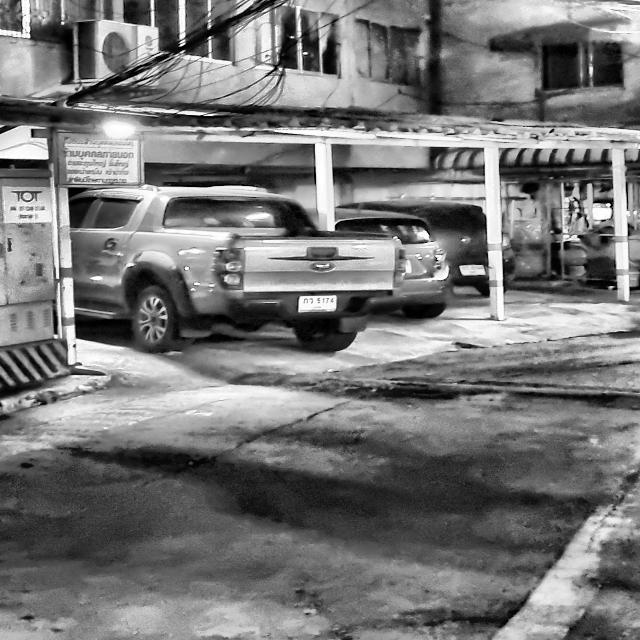license-plate: (295, 294, 344, 315), (456, 263, 491, 280)
